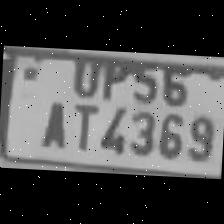3: (124, 104, 156, 155)
4: (95, 99, 128, 153)
5: (125, 57, 158, 102)
6: (154, 107, 184, 159), (156, 62, 191, 104)
9: (184, 108, 216, 161)
A: (33, 92, 70, 149)
P: (96, 52, 128, 100)
T: (65, 97, 98, 152)
U: (64, 48, 102, 96)
